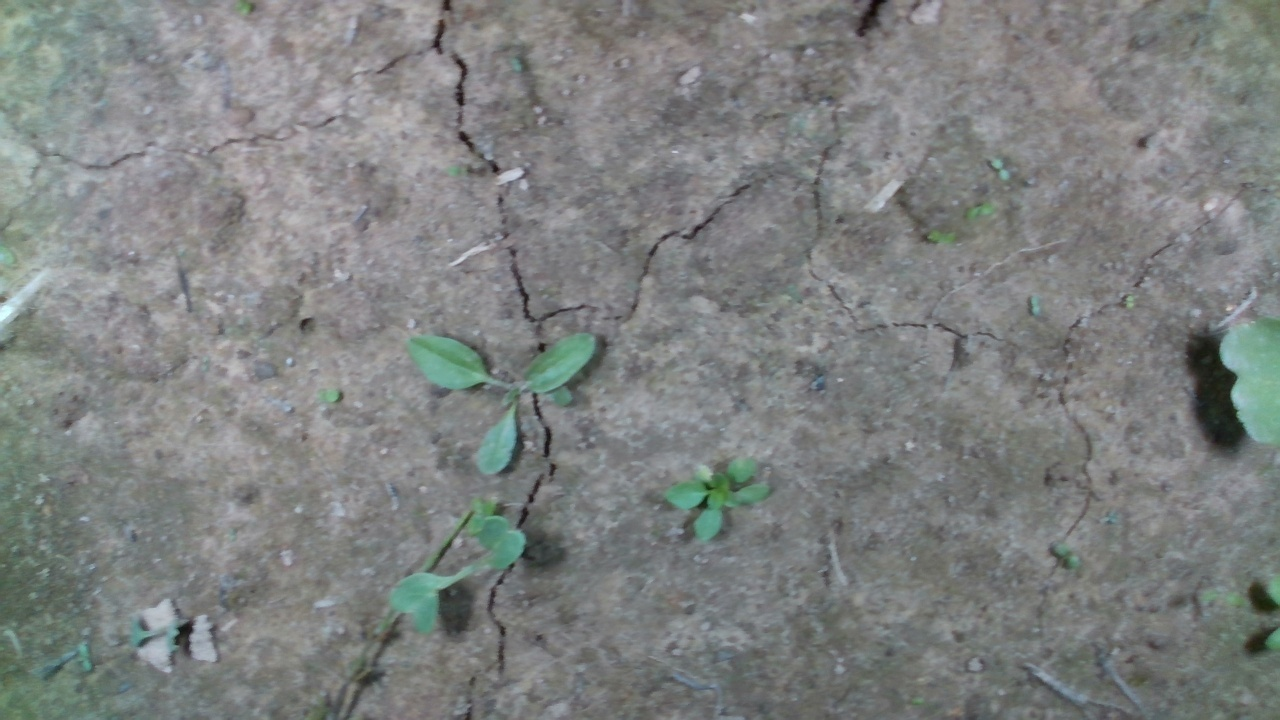weed: (404, 331, 602, 481), (308, 384, 344, 409), (988, 155, 1010, 182), (1029, 294, 1041, 316), (1123, 294, 1137, 310)
